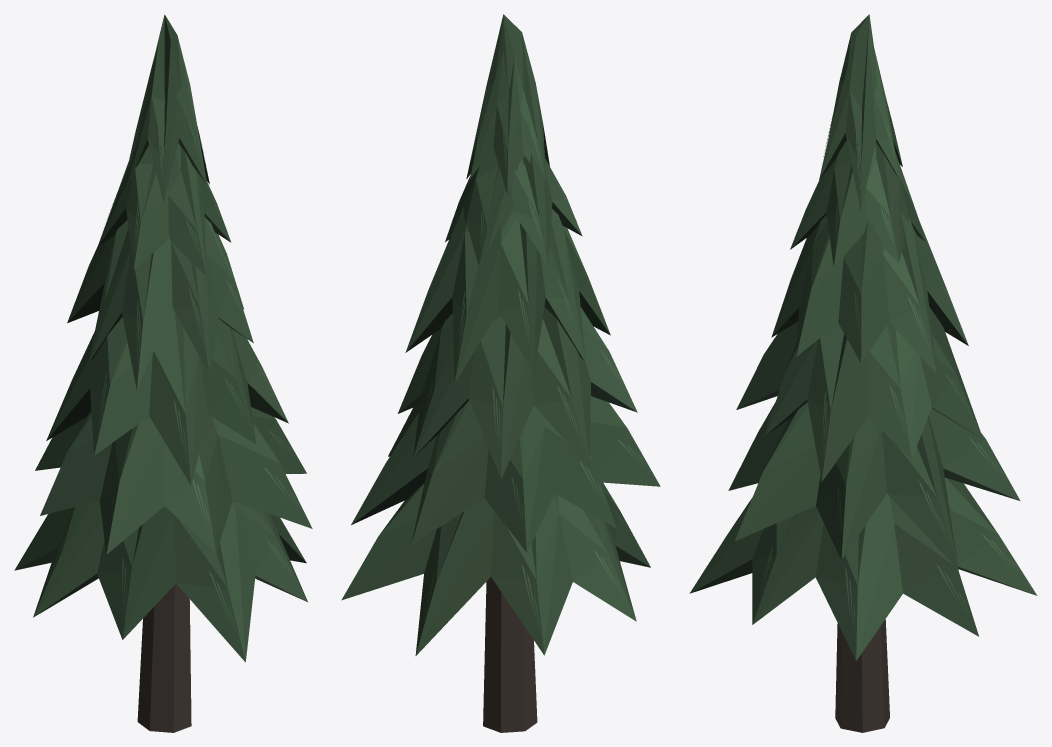
File: Spruce2.glb
3 views of the same model, side by side, from view 1: azimuth 30°, elevation 25°; view 2: azimuth 150°, elevation 25°; view 3: azimuth 270°, elevation 25° (orthographic).
Parts seen in each view (by area): view 1: Spruce2; view 2: Spruce2; view 3: Spruce2.
Boxes of the visible parts, x1,y1,x2,y2 form: Spruce2: (14,14,312,732); Spruce2: (341,14,660,732); Spruce2: (689,14,1037,732).
Bounding box in the file's own units: 0.3979 × 1 × 0.4458.
